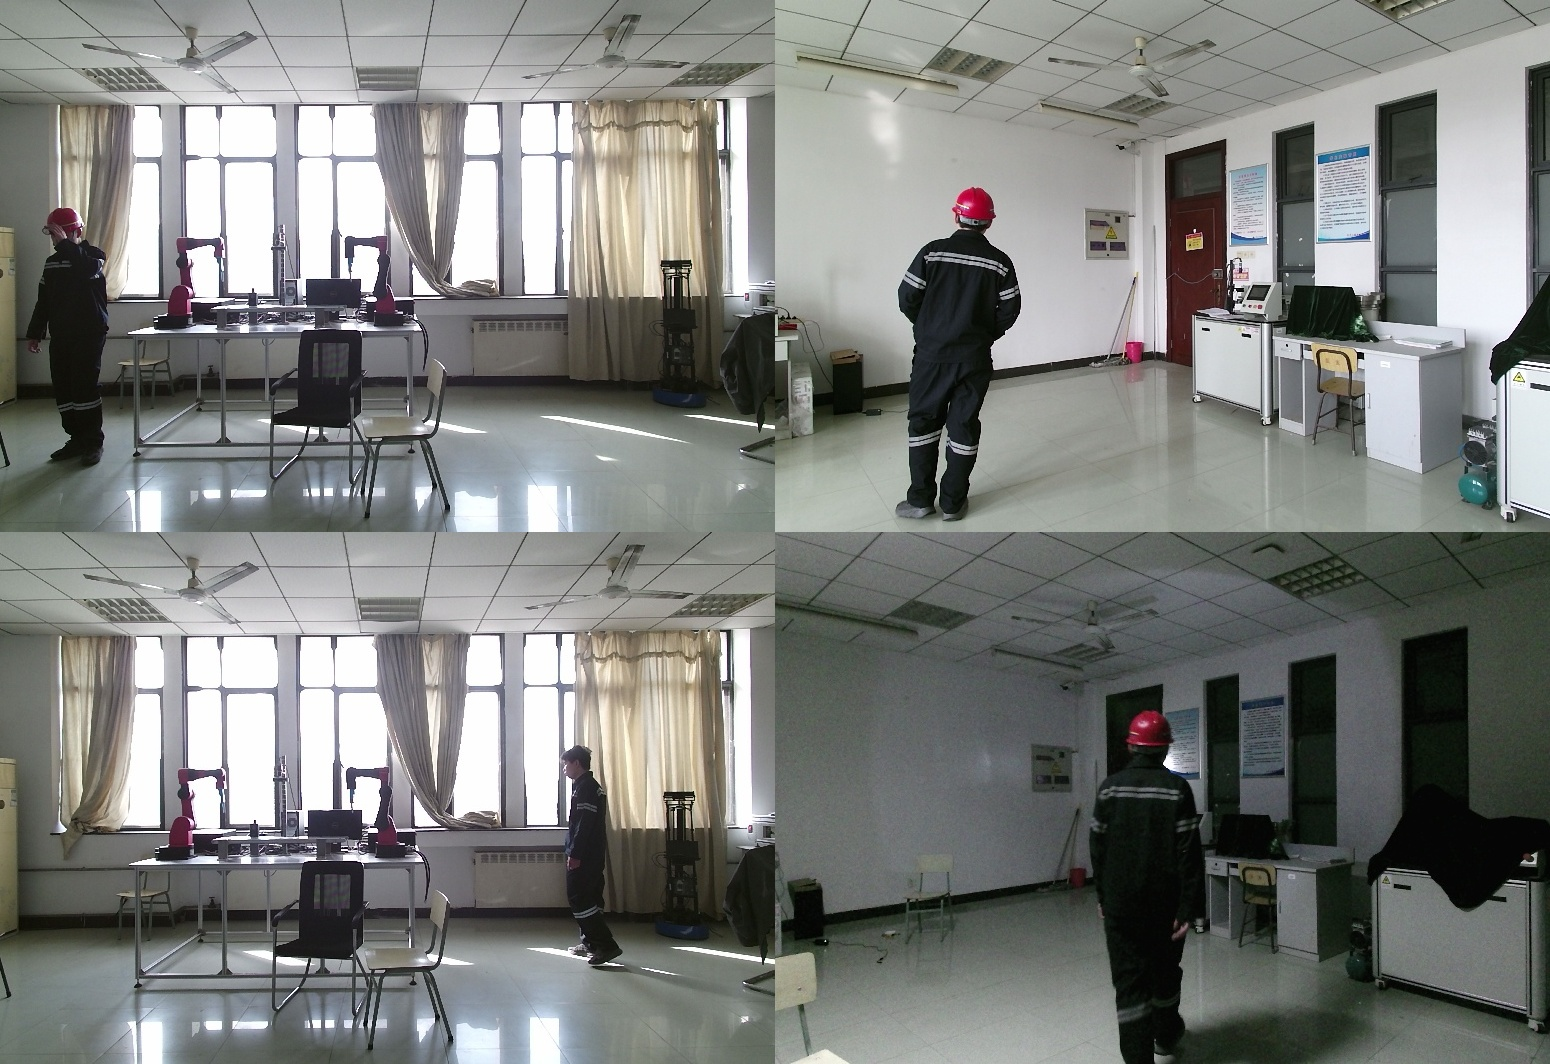person: (1081, 706, 1230, 1064), (893, 188, 1037, 521), (27, 211, 122, 465), (561, 745, 622, 966)
